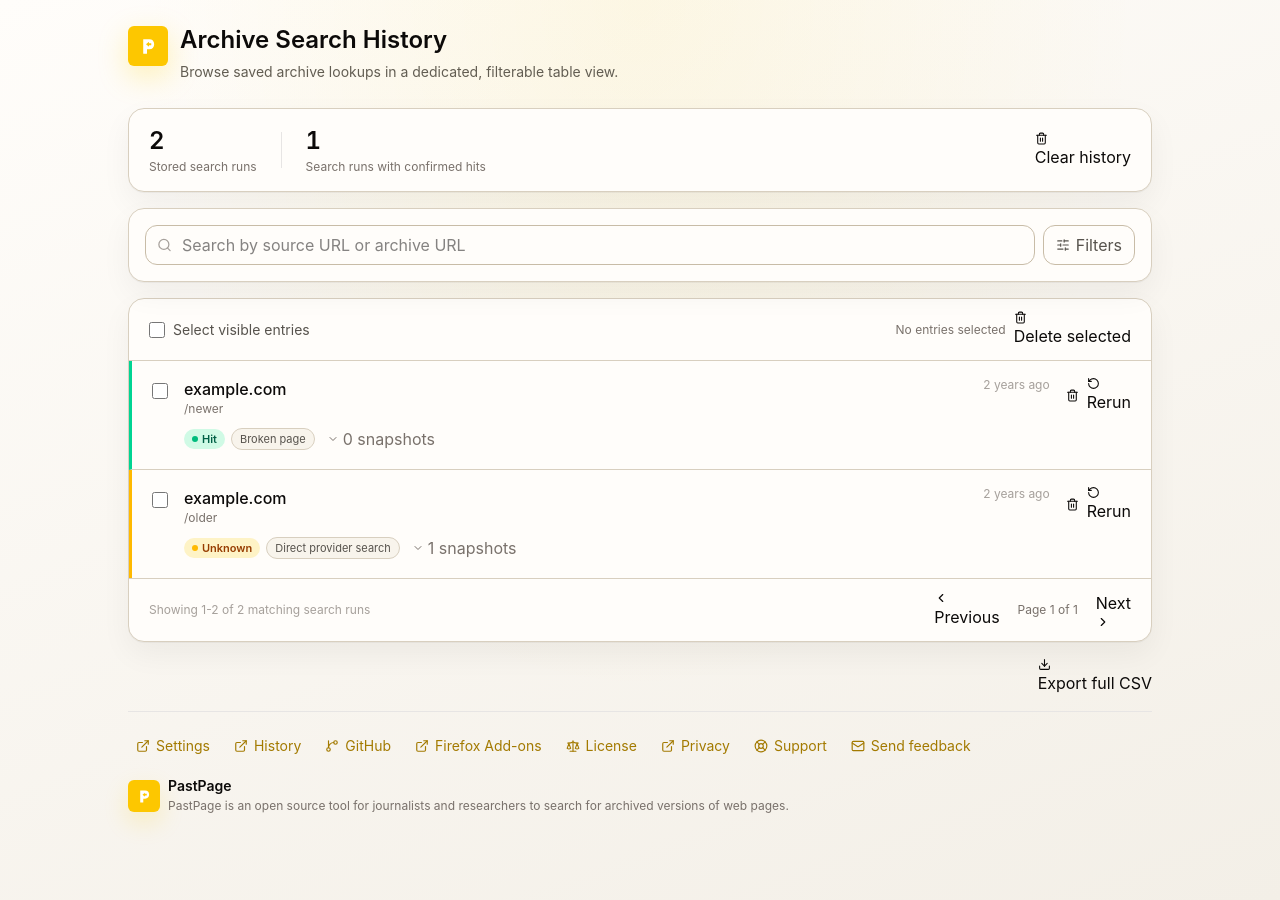
Test: HistoryApp › supports sorting and detailed mode
Click the button "Filters". click: point(1089, 245)
box: [1043,225,1135,265]
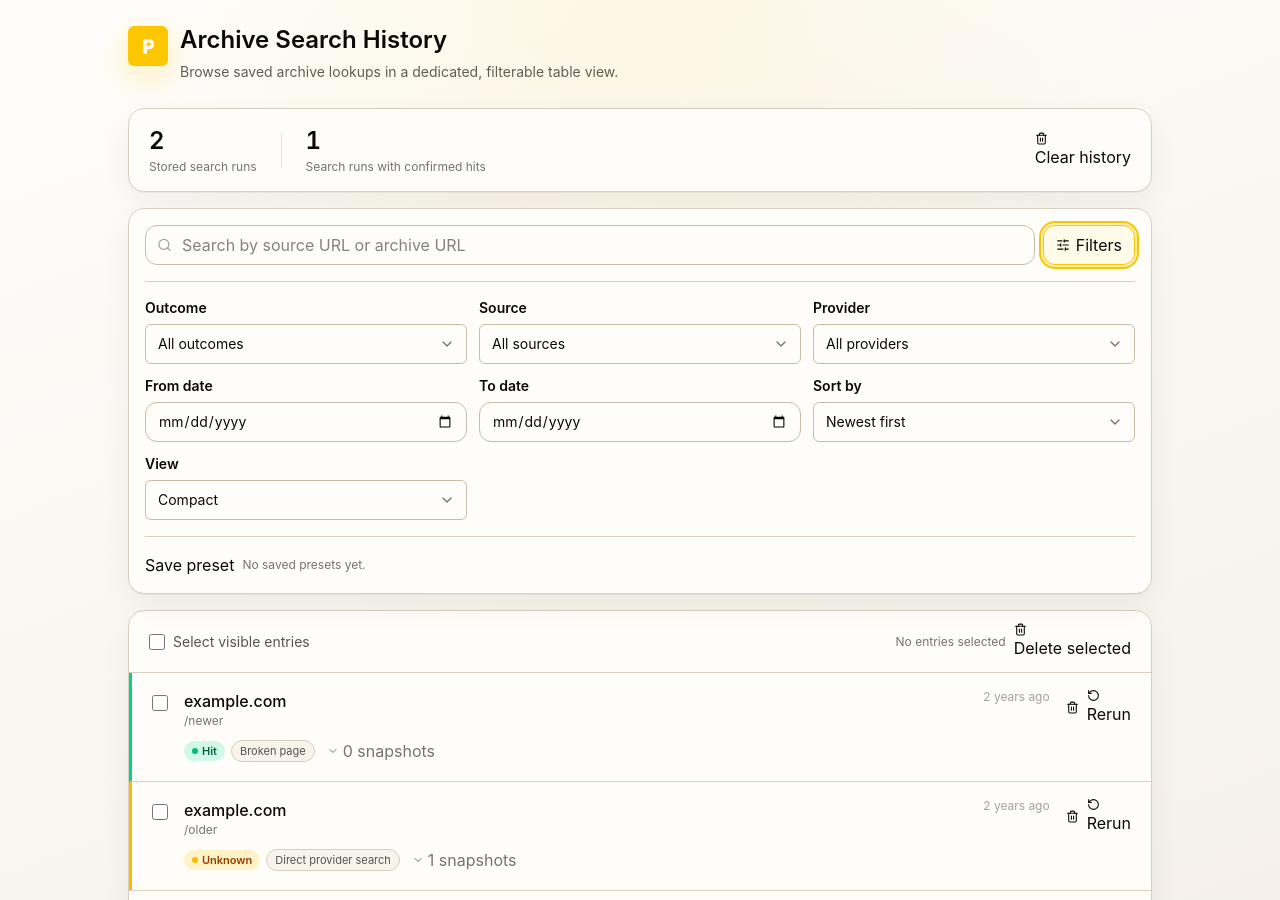
Select "Oldest first" in the dropdown labelled "Sort by". click: point(974, 422)
box: [813,402,1135,442]
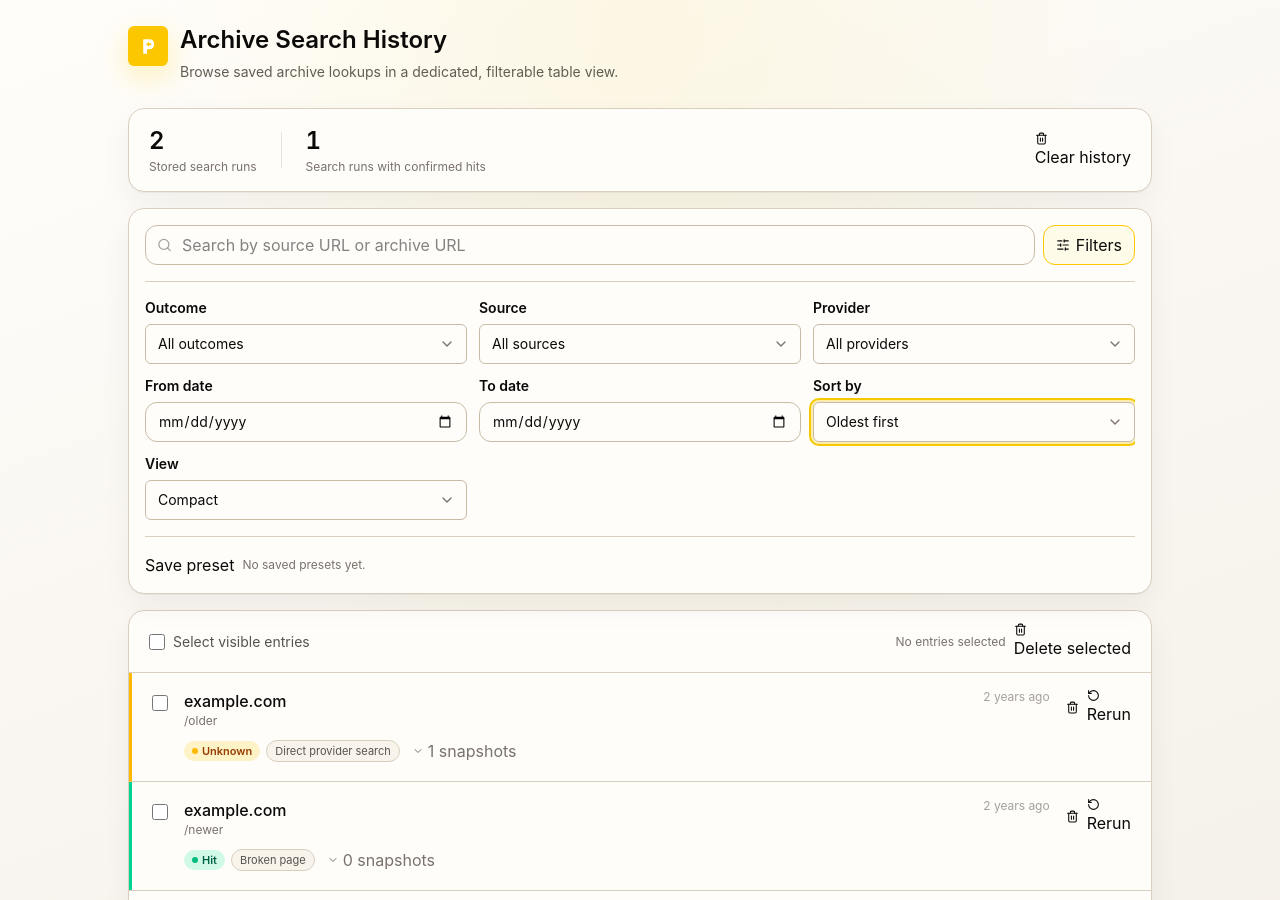
Expected: the 1st list item shows "/older", [184,713,217,728]
Select "Detailed" in the dropdown labelled "View". click: point(306, 500)
box: [145,480,467,520]
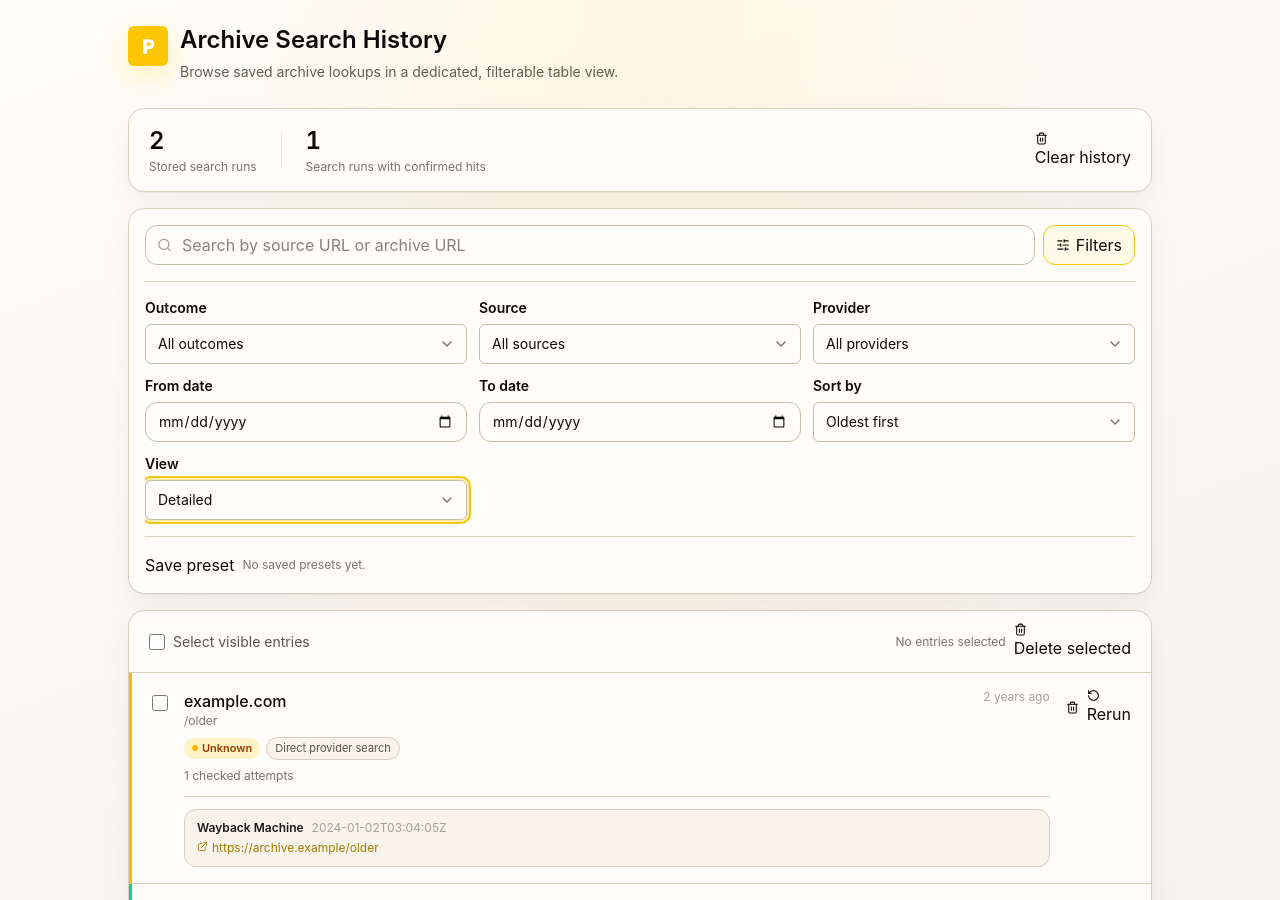
Expected: the text "1 checked attempts" is shown, [184,768,294,782]
